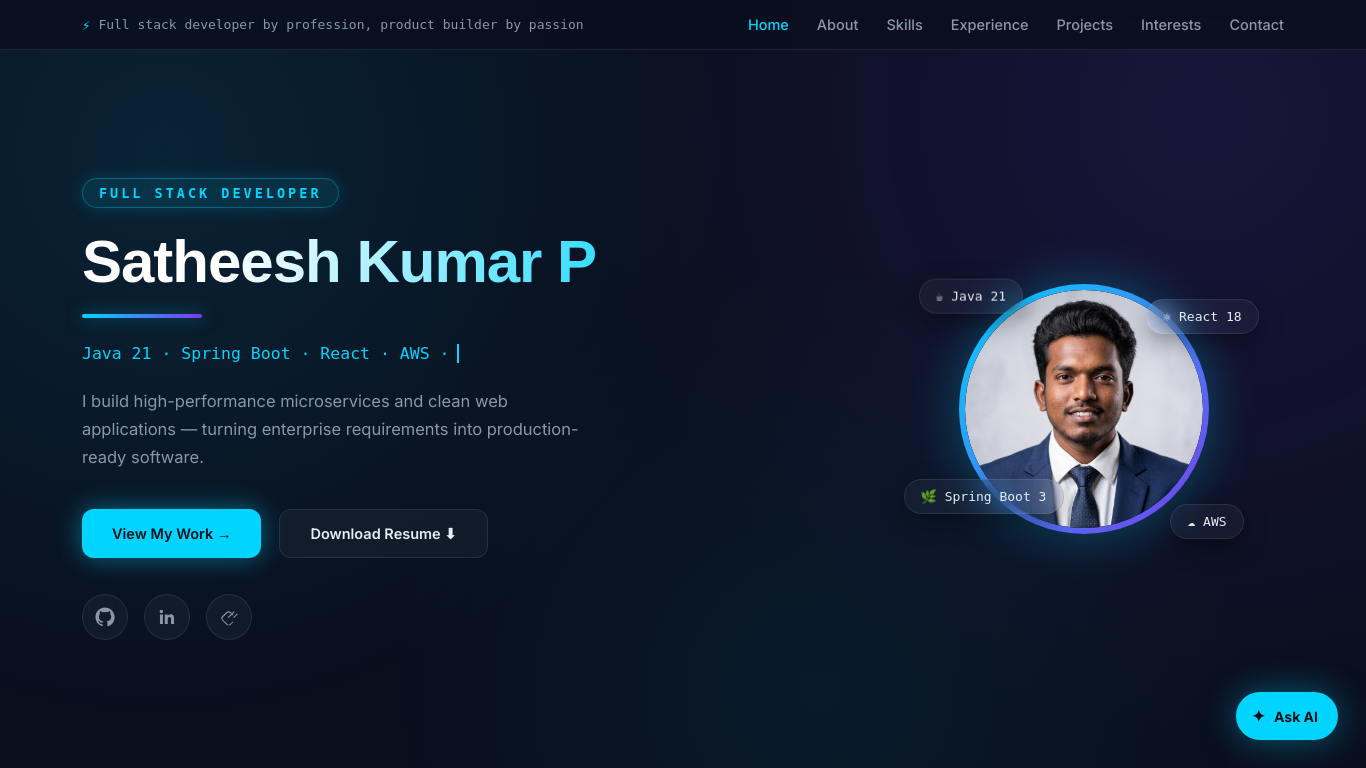
it: Portfolio Full-Stack Master E2E Automated Test Suite › AI Chatbot Engine & Boundary Tests › TC-AI-01 [Positive]: Should open drawer with single welcome message and starter chips
Click the button with class "chat-widget-button": (1287, 716) x1=1236 y1=692 x2=1338 y2=740
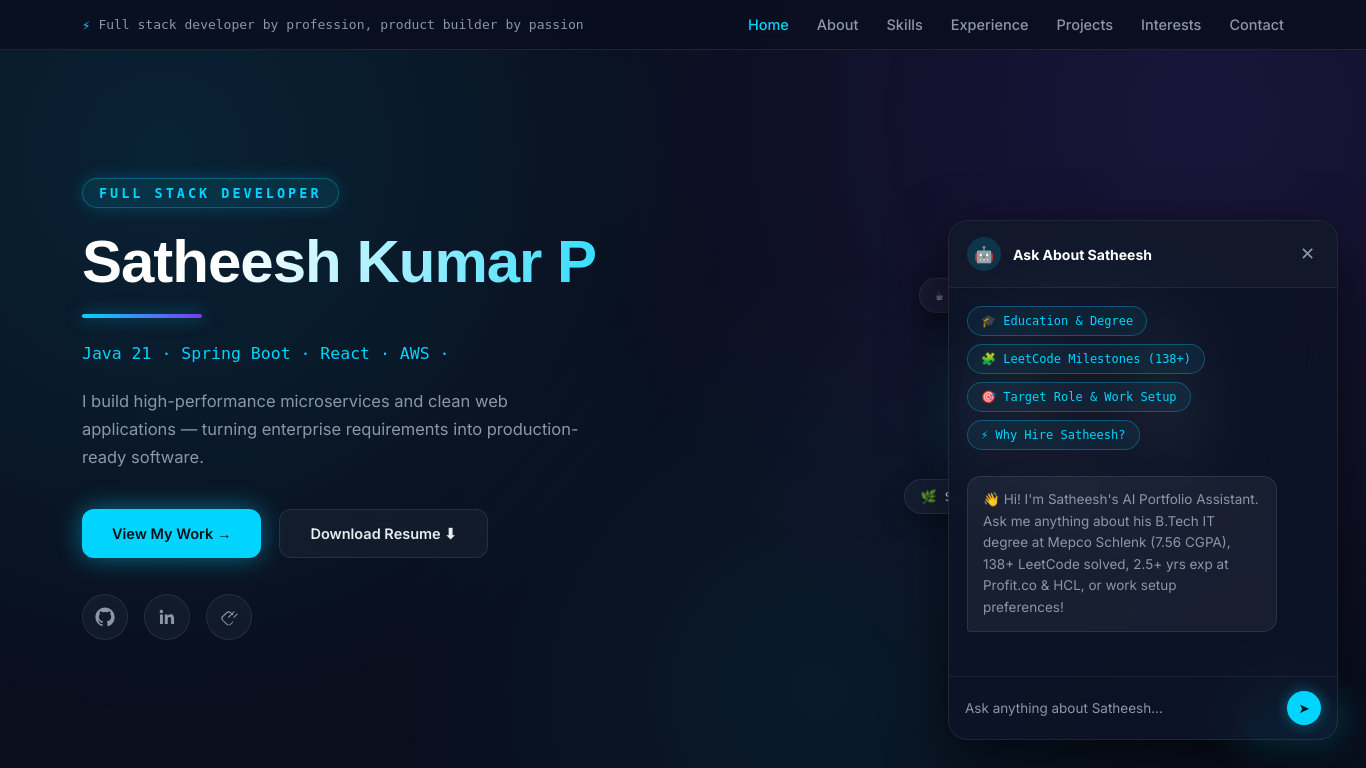
Expected: the element with id "chatPanel" is shown, x1=948 y1=220 x2=1338 y2=740
Expected: the number of elements with class "ai-bubble" is 1, x1=967 y1=476 x2=1277 y2=632
Expected: the text with class "ai-bubble" shows "Hi! I'm Satheesh's AI Portfolio Assistant", x1=967 y1=476 x2=1277 y2=632
